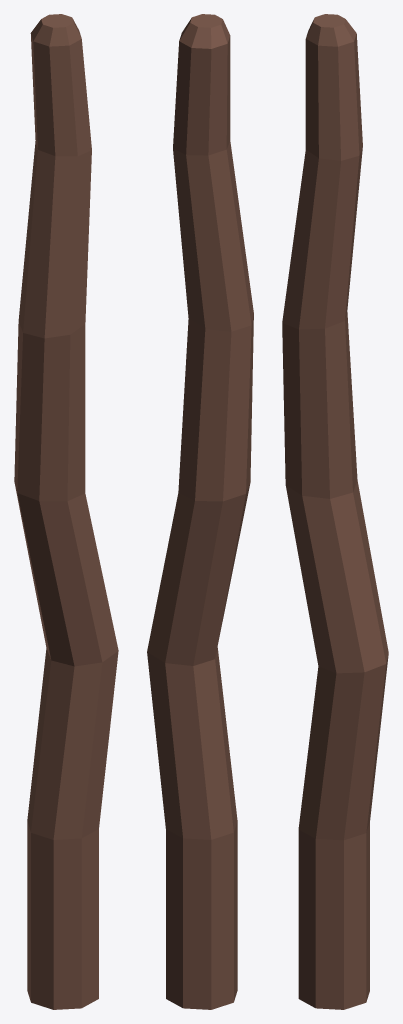
Rendered from WoodenWand.fbx.
3 renders of one model, left to right at view 1: azimuth 30°, elevation 25°; view 2: azimuth 150°, elevation 25°; view 3: azimuth 330°, elevation 25°, orthographic.
Parts seen in each view (by area): view 1: WoodenWand; view 2: WoodenWand; view 3: WoodenWand.
Boxes of the visible parts, x1,y1,x2,y2 form: WoodenWand: (14,14,118,1009); WoodenWand: (147,14,253,1009); WoodenWand: (282,14,388,1009).
Bounding box in the file's own units: 1.35 × 13.08 × 0.9773.
